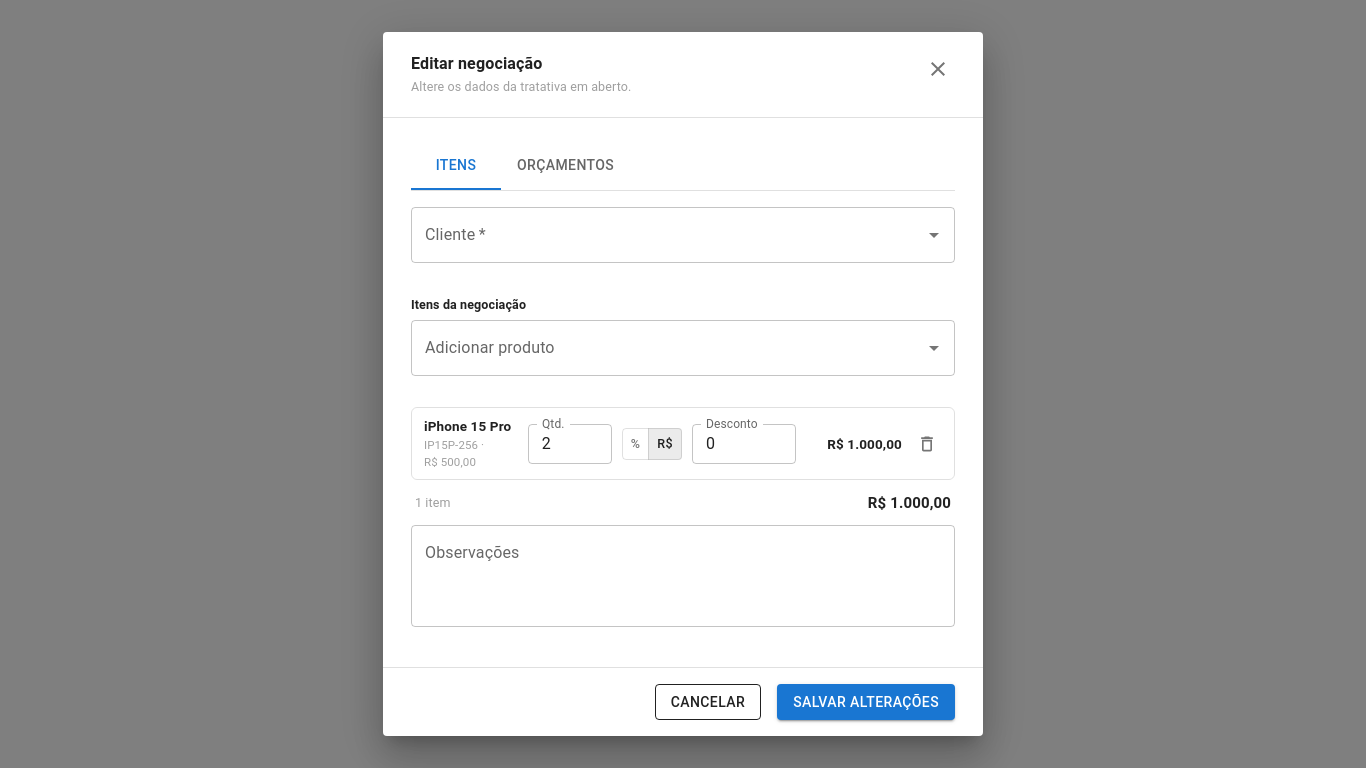
Test: NegotiationFormModal — aba Orçamentos (spec 011, ticket 02) › a taxa editada sobrevive à troca de aba
Click the tab "Orçamentos" at (566, 166), box [501,142,630,190]
(page scrolled)
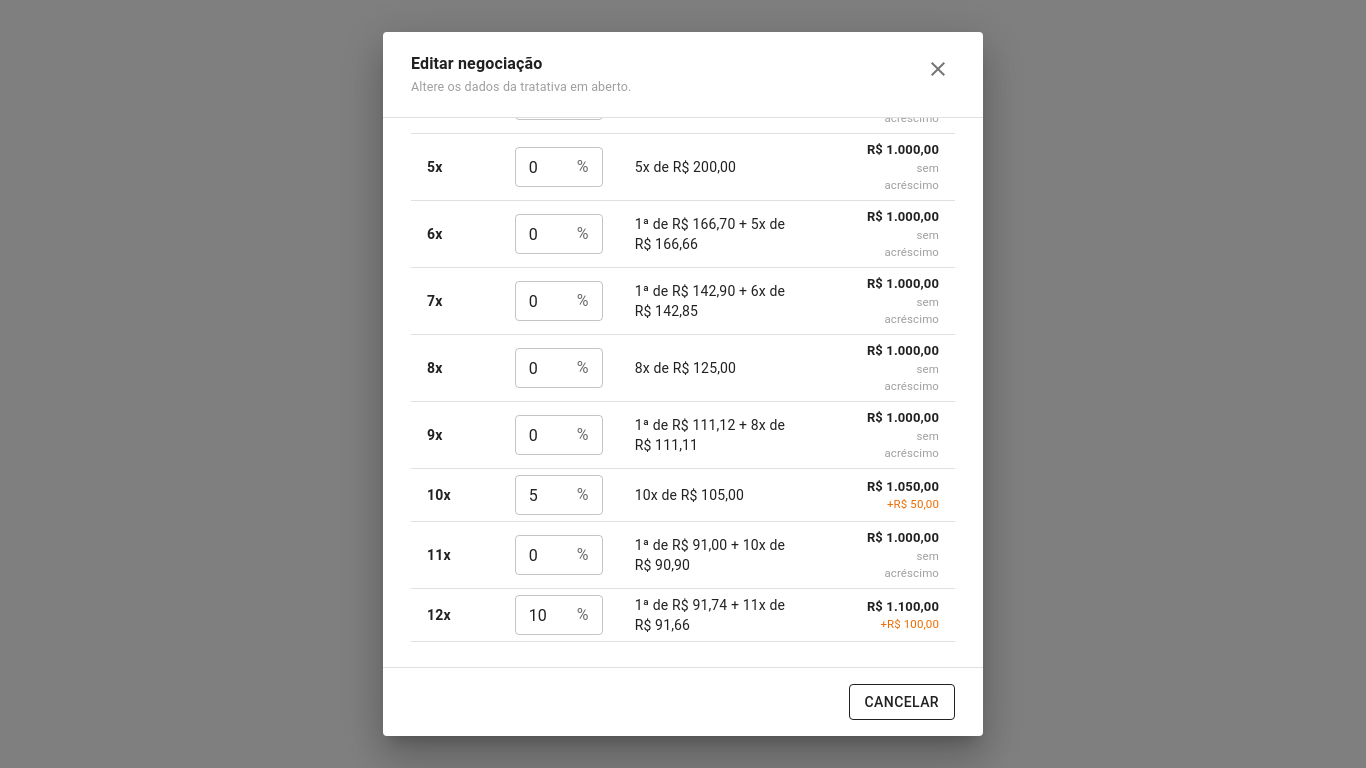
Click the number field named "Taxa 10x" at (542, 495), box [515,475,569,515]
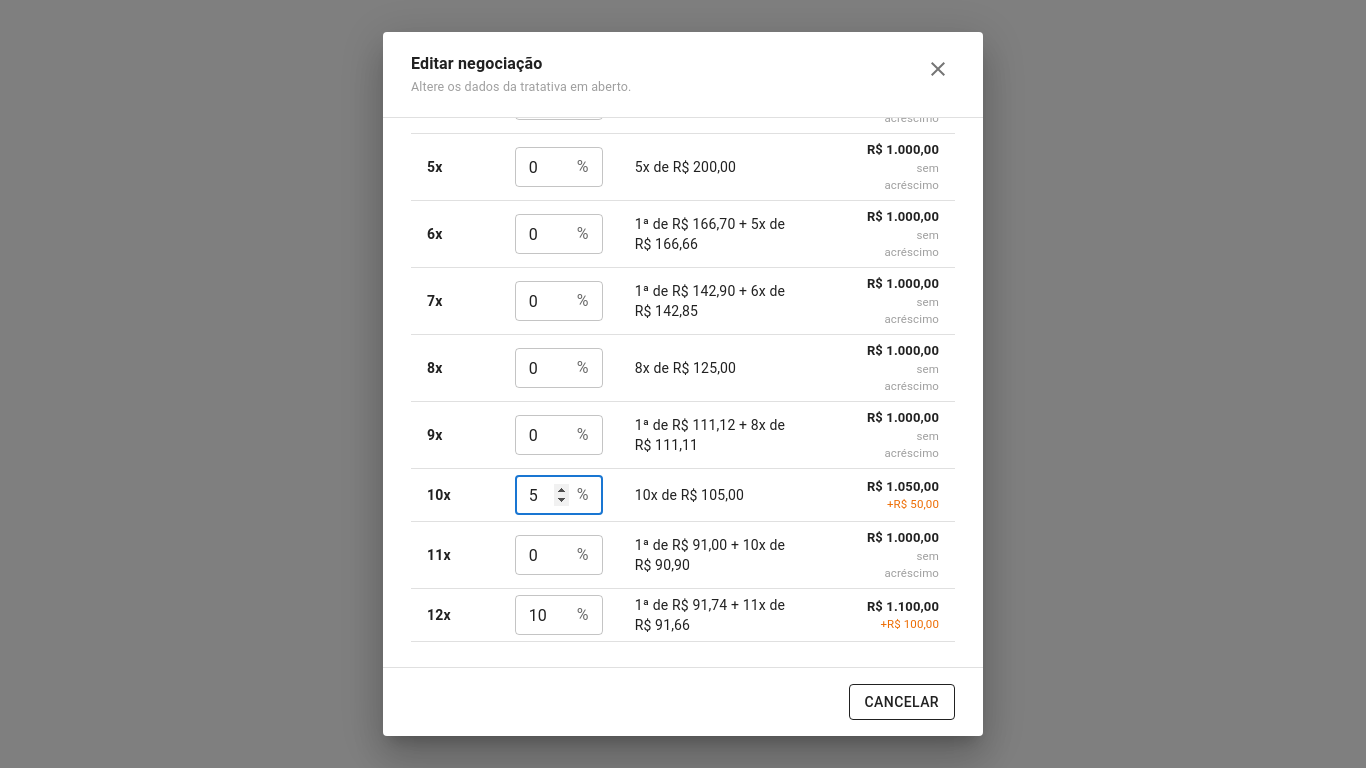
Type keys "8"
(page scrolled)
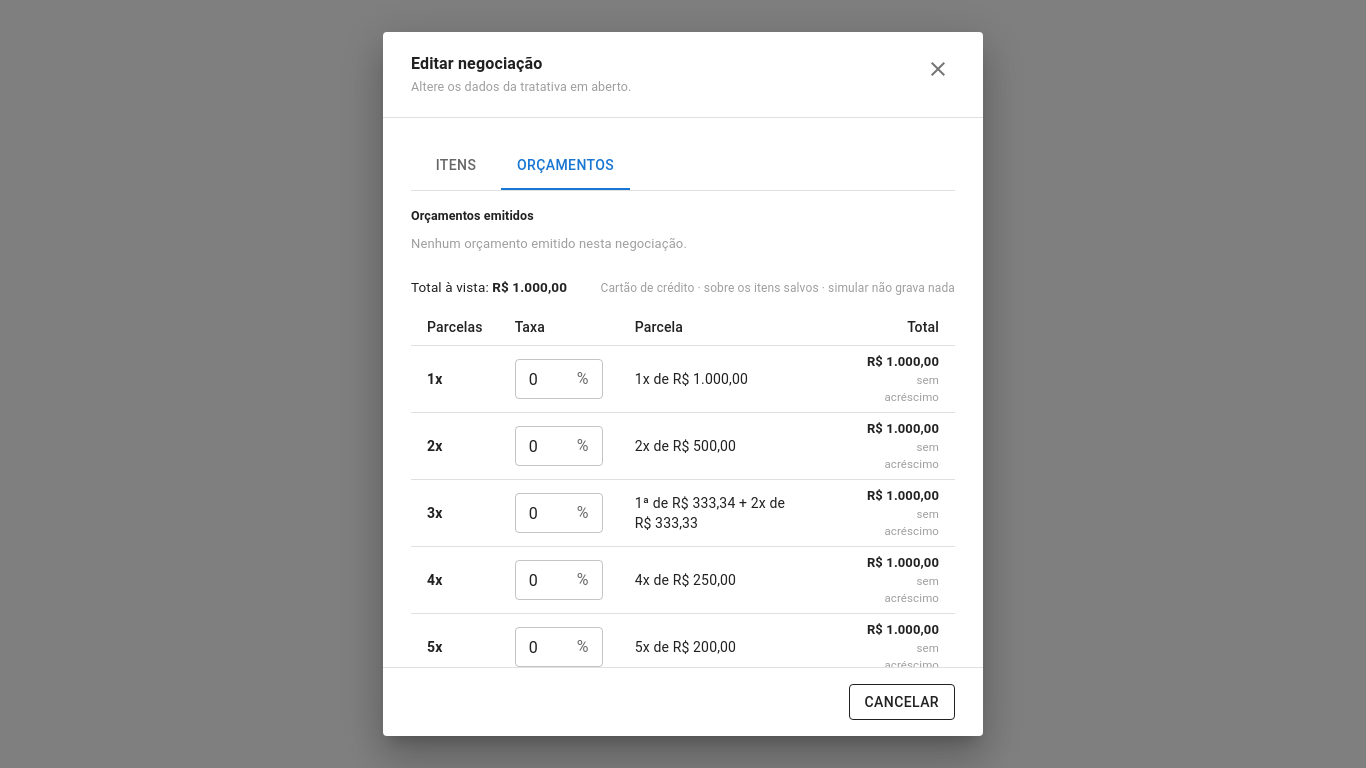
Click the tab "Itens" at (456, 166), box [411,142,501,190]
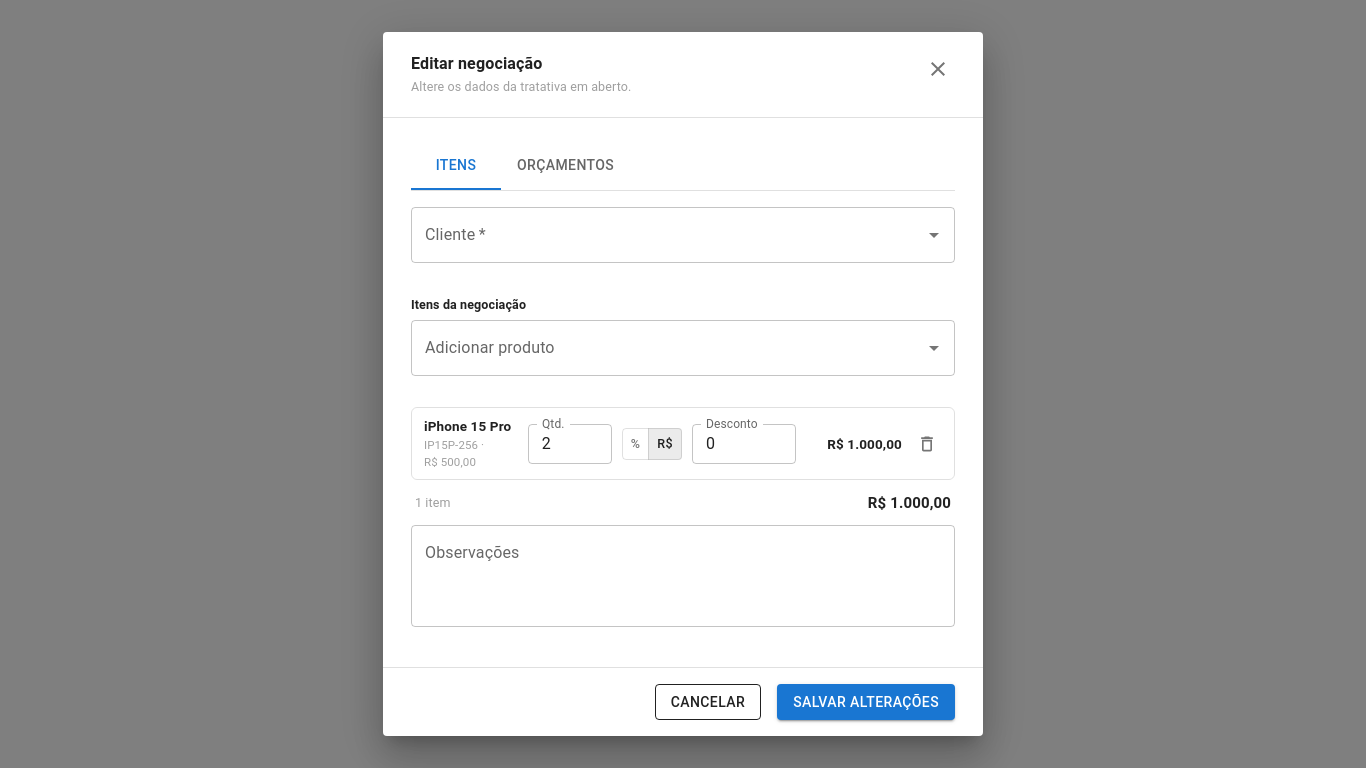
Click the tab "Orçamentos" at (566, 166), box [501,142,630,190]
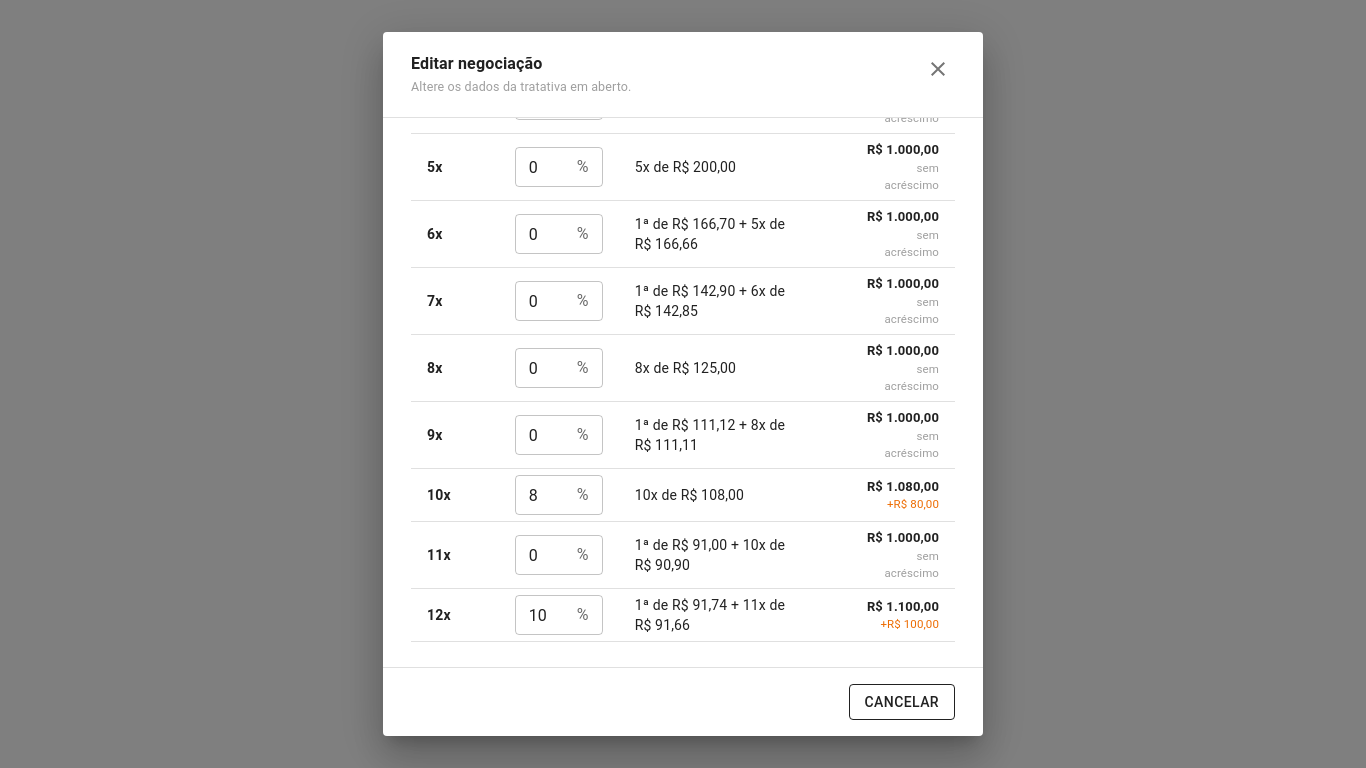
Result: the number field named "Taxa 10x" holds "8" at [515,475,569,515]
